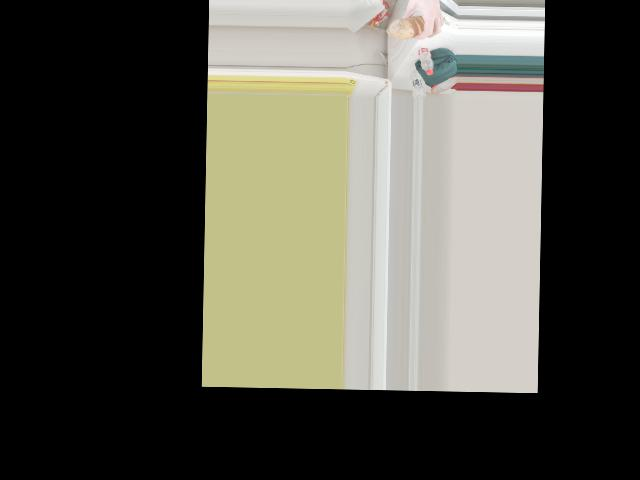sweet_potato: (396, 9, 428, 41)
